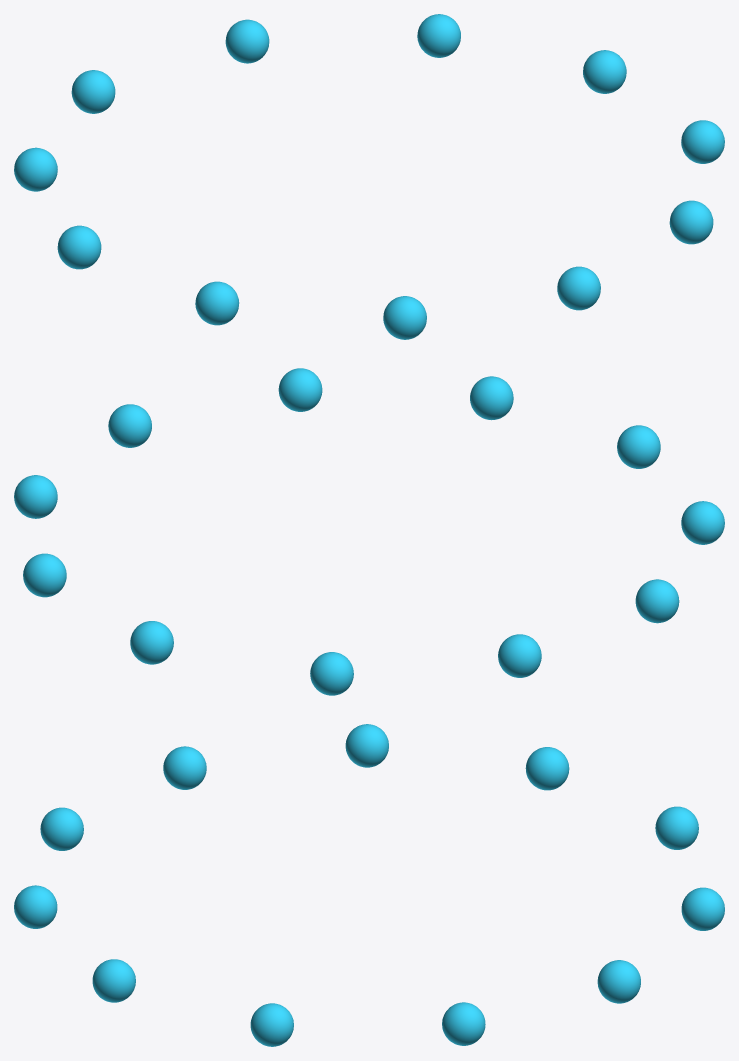
The picture shows the model from 3 angles, top to bottom: view 1: azimuth 30°, elevation 25°; view 2: azimuth 150°, elevation 25°; view 3: azimuth 270°, elevation 25°; orthographic projection.
Visible parts, largest first — view 1: Sphere048; view 2: Sphere048; view 3: Sphere048.
Part boxes in pixels (x1,y1,x2,y2): Sphere048: (14,14,724,339); Sphere048: (14,368,724,695); Sphere048: (14,724,724,1046).
Size of the model in its own units: 133 by 8.22 by 134.
